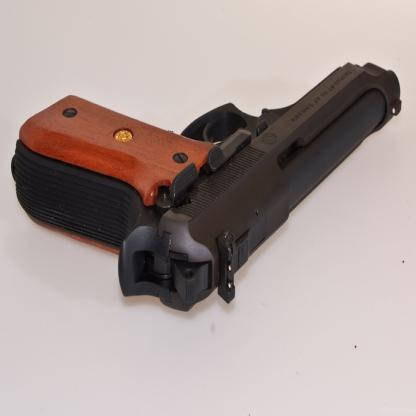Handgun: (11, 62, 401, 312)
